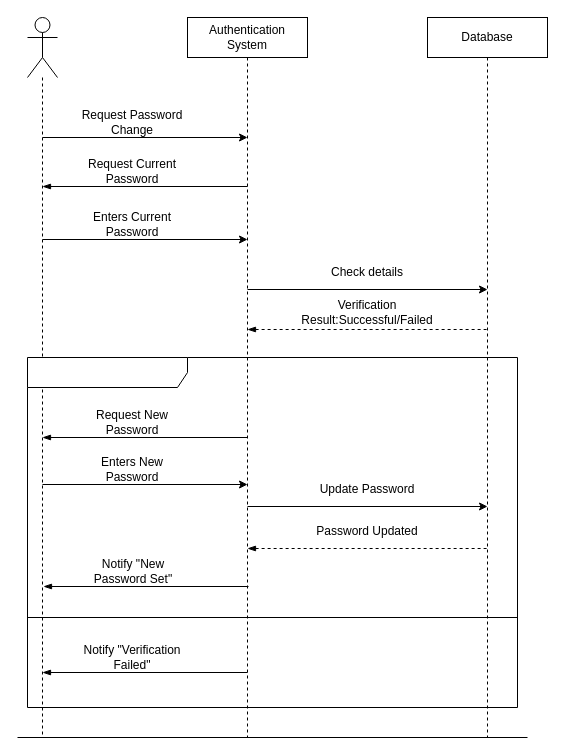
The diagram is 565 pixels wide and 756 high, and some of its shapes have lost their labels. Here are the shapes that lost their labels. From the top down, the box of each, then its label:
(26, 16, 58, 78): User
(26, 356, 518, 708): alt
